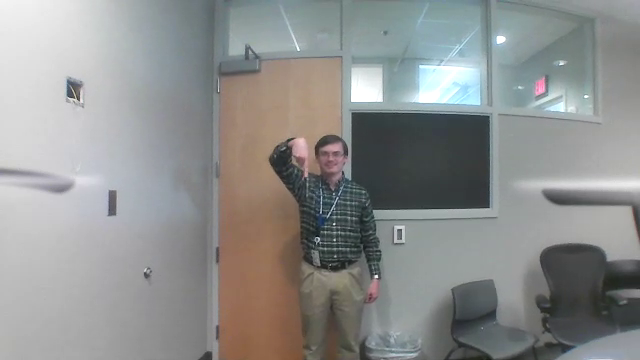down: (283, 134, 315, 188)
